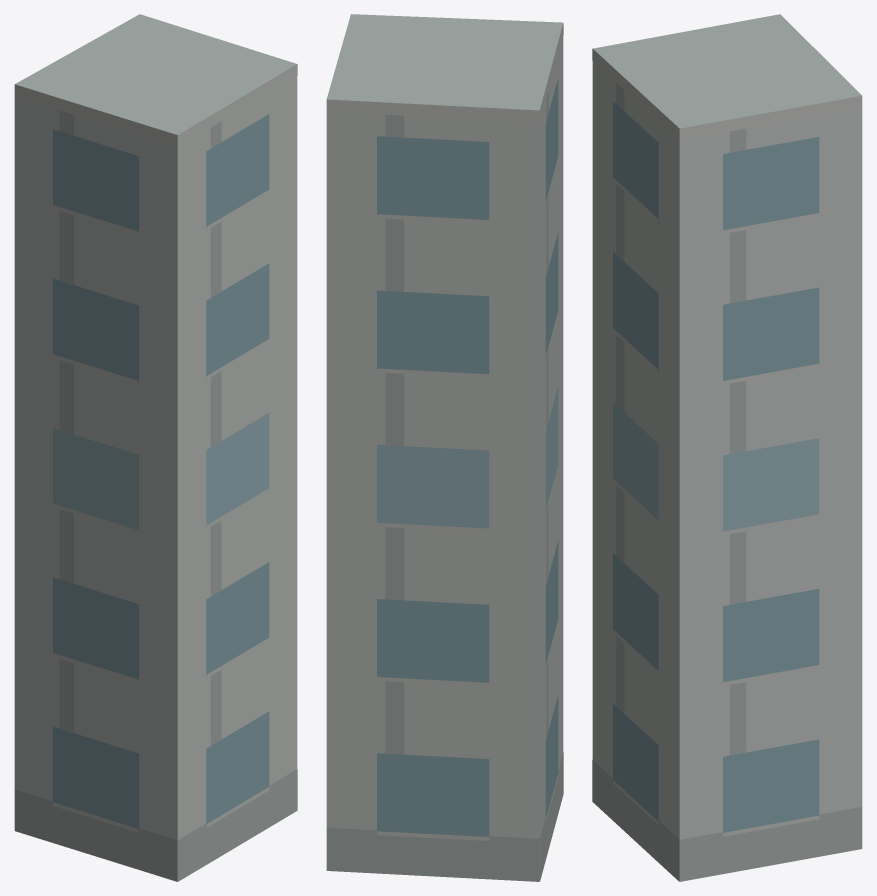
The model's file is survey-upis-32662657.glb.
The picture shows the model from 3 angles, left to right: view 1: azimuth 30°, elevation 25°; view 2: azimuth 150°, elevation 25°; view 3: azimuth 270°, elevation 25°; orthographic projection. The views are drawn at different scales.
Visible parts, largest first — view 1: survey-upis-32662657.tmp; view 2: survey-upis-32662657.tmp; view 3: survey-upis-32662657.tmp.
Part boxes in pixels (x1,y1,x2,y2): survey-upis-32662657.tmp: [14, 14, 297, 881]; survey-upis-32662657.tmp: [326, 14, 563, 881]; survey-upis-32662657.tmp: [592, 14, 862, 881].
Bounding box in the file's own units: 4.98 × 15.25 × 4.95.
